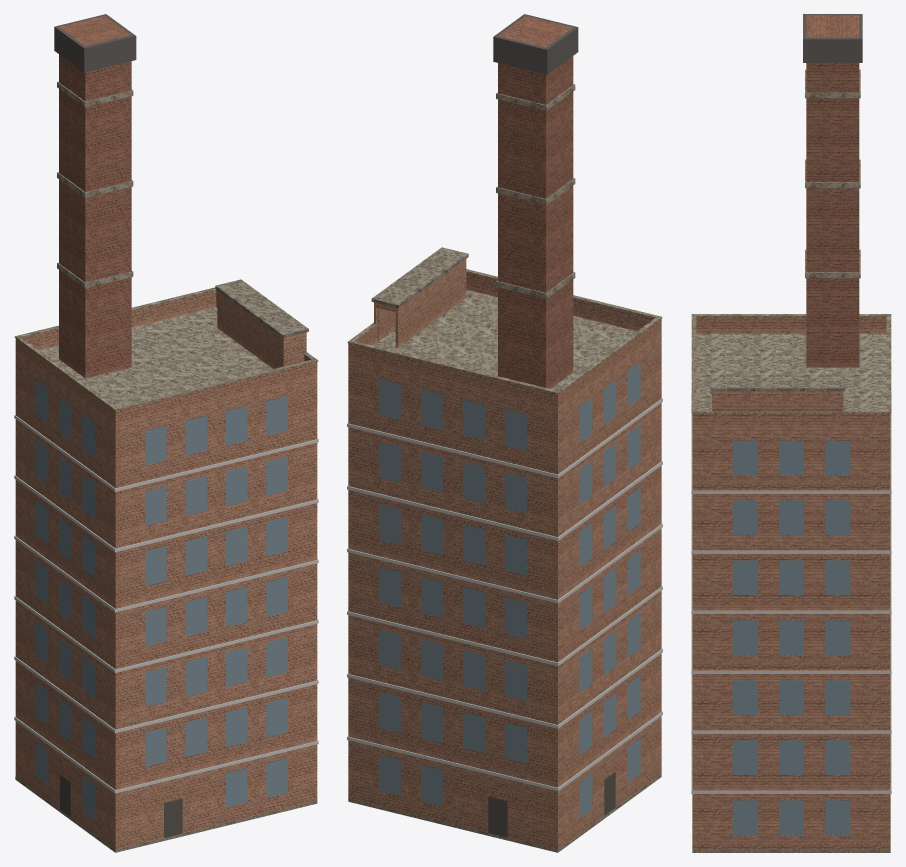
Rendered from ew-boiler-tower.zfix-v8.lod1.glb.
3 renders of one model, left to right at view 1: azimuth 30°, elevation 25°; view 2: azimuth 150°, elevation 25°; view 3: azimuth 270°, elevation 25°, orthographic. The views are drawn at different scales.
Visible parts, largest first — view 1: ew-boiler-tower; view 2: ew-boiler-tower; view 3: ew-boiler-tower.
Boxes of the visible parts, box(x1,y1,x2,y2) form: ew-boiler-tower: box(14, 14, 318, 852); ew-boiler-tower: box(347, 14, 662, 852); ew-boiler-tower: box(691, 14, 891, 852).
Size of the model in its own units: 14.12 by 50.23 by 12.12.
3 materials, 2 textured.
